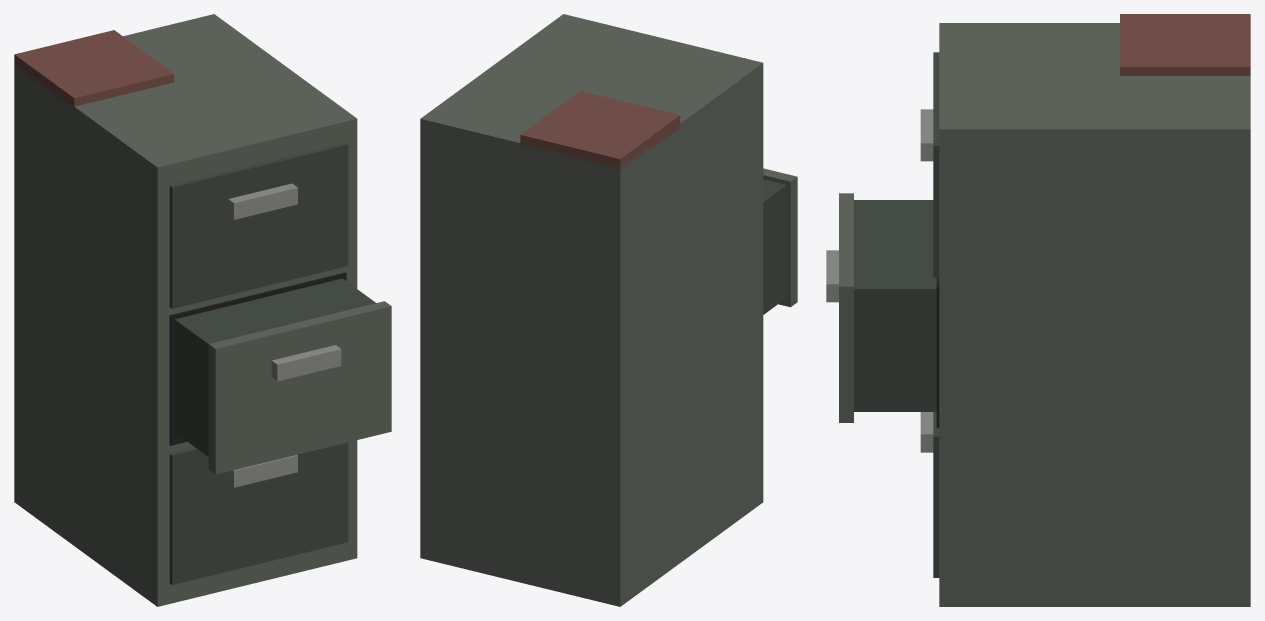
Rendered from oc_filing_cabinet.obj.
3 views of the same model, side by side, from view 1: azimuth 30°, elevation 25°; view 2: azimuth 150°, elevation 25°; view 3: azimuth 270°, elevation 25° (orthographic). The views are drawn at different scales.
Parts seen in each view (by area): view 1: oc_filing_cabinet_0, oc_filing_cabinet_5, oc_filing_cabinet_7, oc_filing_cabinet_1, oc_filing_cabinet_4, oc_filing_cabinet_9, oc_filing_cabinet_3, oc_filing_cabinet_6, oc_filing_cabinet_8, oc_filing_cabinet_2; view 2: oc_filing_cabinet_0, oc_filing_cabinet_9, oc_filing_cabinet_4, oc_filing_cabinet_5; view 3: oc_filing_cabinet_0, oc_filing_cabinet_4, oc_filing_cabinet_9, oc_filing_cabinet_5, oc_filing_cabinet_7, oc_filing_cabinet_1, oc_filing_cabinet_8, oc_filing_cabinet_6, oc_filing_cabinet_3, oc_filing_cabinet_2.
Part boxes in pixels (bbox=[...]): oc_filing_cabinet_0: bbox=[14, 14, 357, 606]; oc_filing_cabinet_5: bbox=[208, 301, 391, 474]; oc_filing_cabinet_7: bbox=[169, 142, 348, 308]; oc_filing_cabinet_1: bbox=[169, 442, 348, 584]; oc_filing_cabinet_4: bbox=[174, 278, 375, 456]; oc_filing_cabinet_9: bbox=[14, 30, 174, 110]; oc_filing_cabinet_3: bbox=[169, 272, 346, 445]; oc_filing_cabinet_6: bbox=[271, 345, 341, 381]; oc_filing_cabinet_8: bbox=[228, 183, 297, 219]; oc_filing_cabinet_2: bbox=[228, 455, 297, 487]; oc_filing_cabinet_0: bbox=[420, 14, 763, 606]; oc_filing_cabinet_9: bbox=[520, 91, 680, 171]; oc_filing_cabinet_4: bbox=[763, 179, 786, 314]; oc_filing_cabinet_5: bbox=[763, 168, 797, 307]; oc_filing_cabinet_0: bbox=[939, 23, 1250, 606]; oc_filing_cabinet_4: bbox=[854, 200, 936, 411]; oc_filing_cabinet_9: bbox=[1120, 14, 1250, 75]; oc_filing_cabinet_5: bbox=[839, 193, 853, 422]; oc_filing_cabinet_7: bbox=[933, 52, 939, 277]; oc_filing_cabinet_1: bbox=[933, 412, 939, 577]; oc_filing_cabinet_8: bbox=[920, 109, 933, 161]; oc_filing_cabinet_6: bbox=[826, 250, 838, 302]; oc_filing_cabinet_3: bbox=[936, 277, 939, 427]; oc_filing_cabinet_2: bbox=[920, 412, 933, 452].
Bounding box in the file's own units: 0.5 × 1.07 × 0.845.
